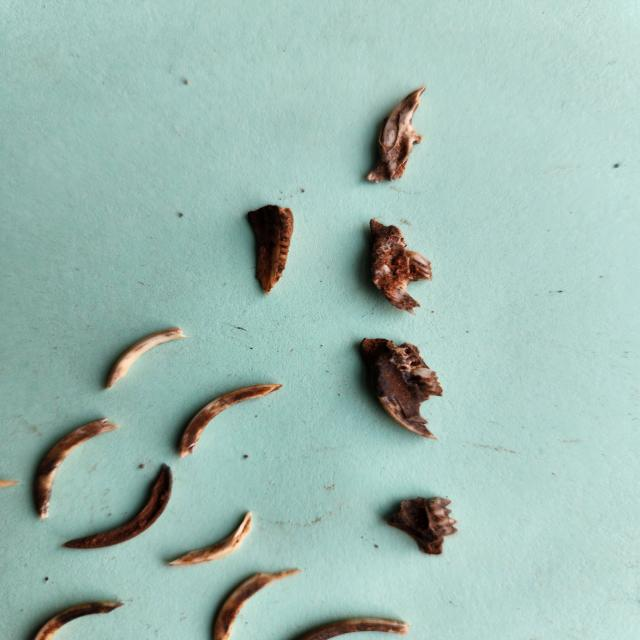fossil: (350, 331, 450, 443), (55, 459, 173, 553), (26, 415, 124, 523), (356, 81, 448, 192), (355, 214, 448, 319), (174, 379, 288, 462), (200, 565, 308, 640), (237, 200, 312, 301), (96, 322, 193, 395), (160, 507, 257, 570), (378, 491, 462, 558), (28, 597, 130, 640), (284, 615, 419, 640)
